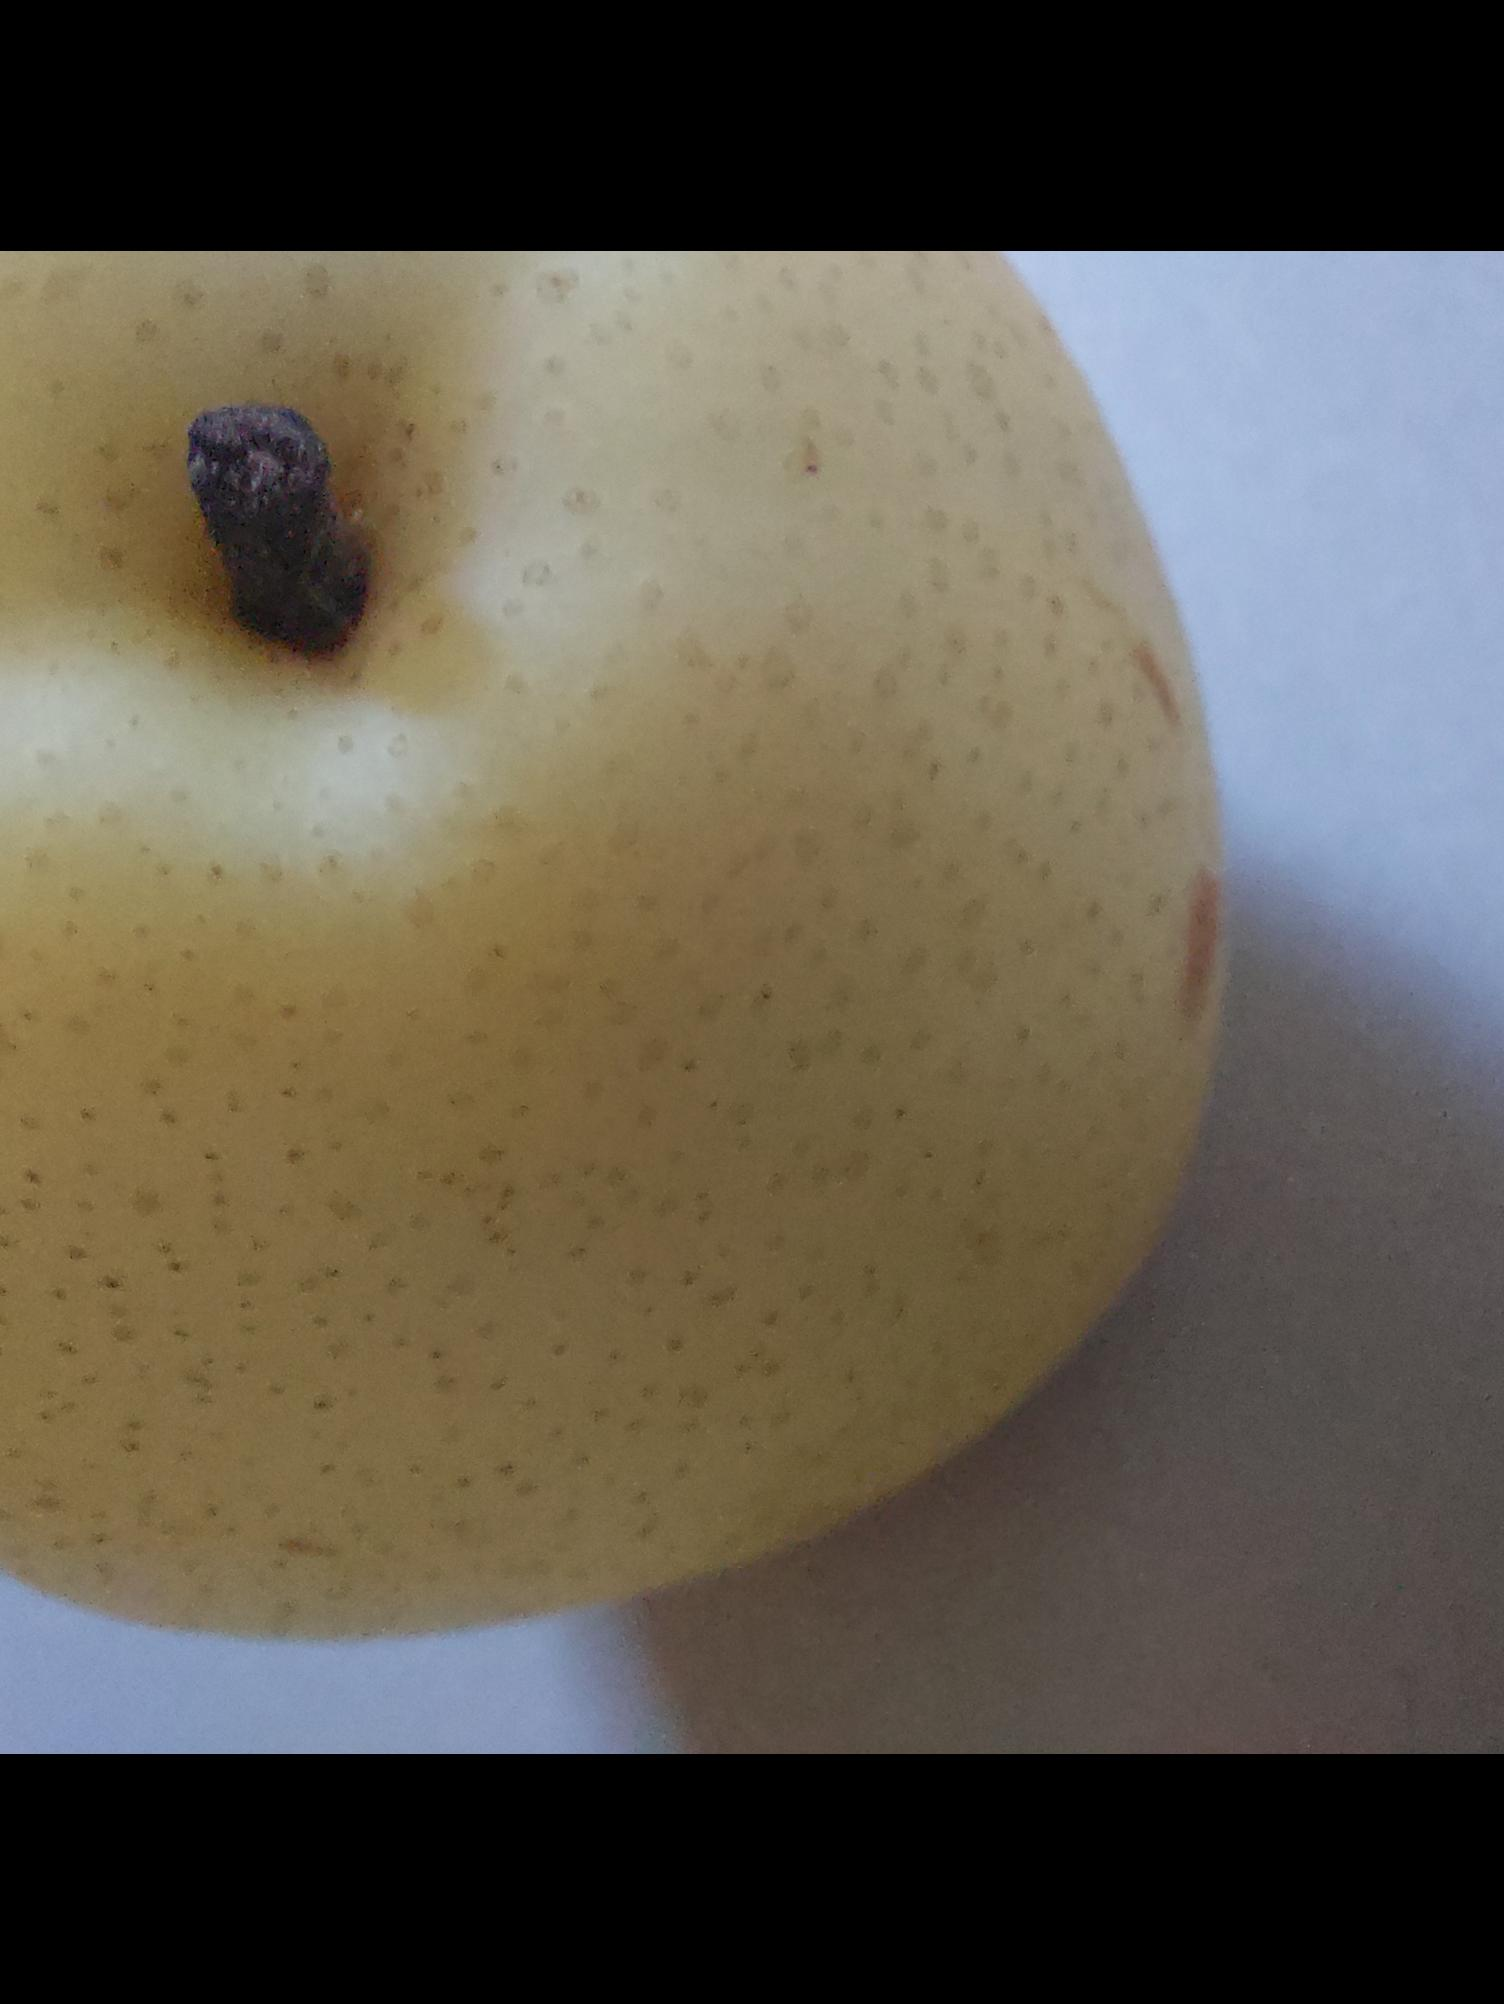Good Pear: (0, 250, 1264, 1662)
